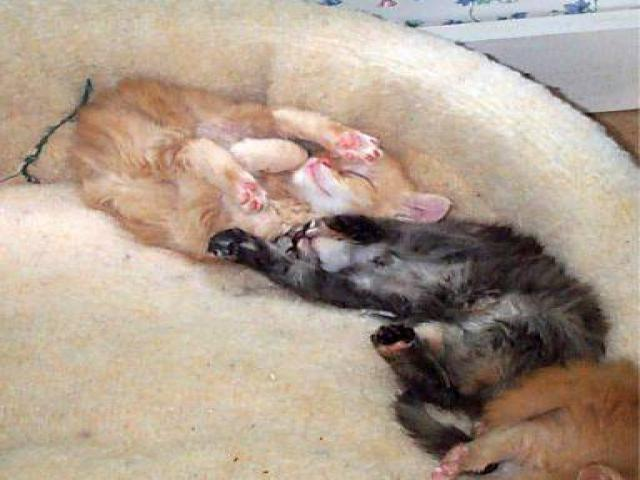cat: (264, 212, 626, 478), (56, 71, 448, 239)
